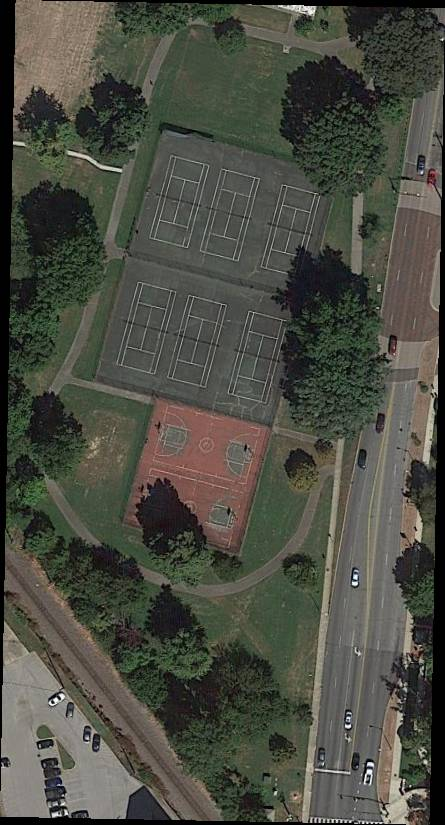basketball court: (154, 408, 261, 485), (138, 470, 243, 548)
small vehicle: (46, 691, 67, 709), (363, 761, 377, 788), (355, 446, 369, 469), (46, 787, 67, 802), (415, 153, 427, 175), (47, 798, 68, 810), (44, 777, 64, 789), (64, 702, 76, 720), (42, 757, 60, 769), (82, 726, 93, 745), (45, 768, 62, 780), (344, 710, 354, 730), (377, 413, 386, 435), (388, 335, 397, 357), (38, 739, 54, 751), (317, 747, 326, 768), (351, 568, 360, 588), (428, 168, 437, 187), (352, 752, 361, 771), (93, 733, 101, 752)
tennis court: (200, 169, 262, 263), (167, 295, 229, 389), (148, 156, 210, 250), (227, 311, 289, 404), (261, 184, 321, 278), (118, 283, 178, 376)
